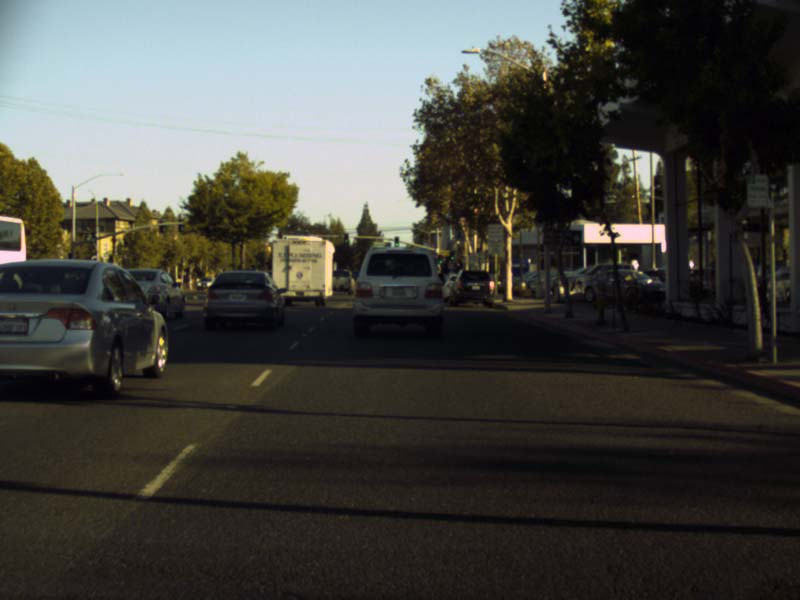Green: (394, 236, 399, 246), (437, 256, 442, 264), (343, 234, 348, 242), (449, 252, 453, 260)
